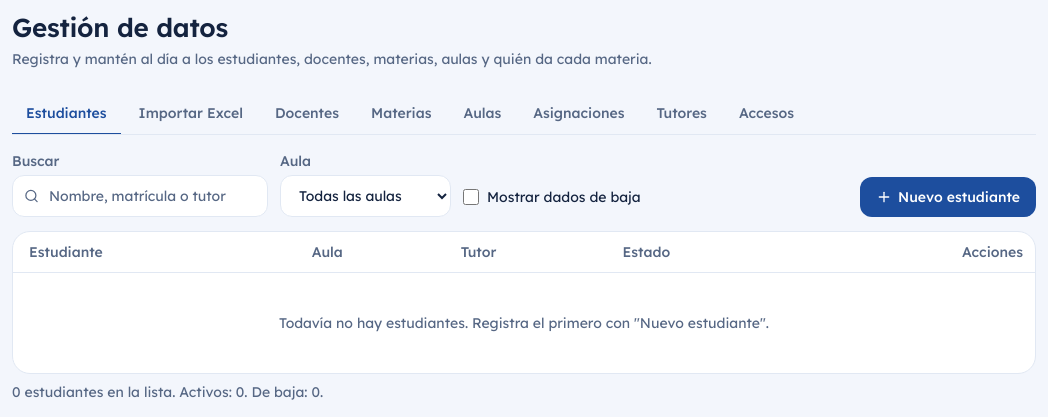
Test case: Aulas › muestra el año actual, la guía y los conteos
Step 1. Click the tab "Aulas" → (482, 114), box 450,92 -> 515,134
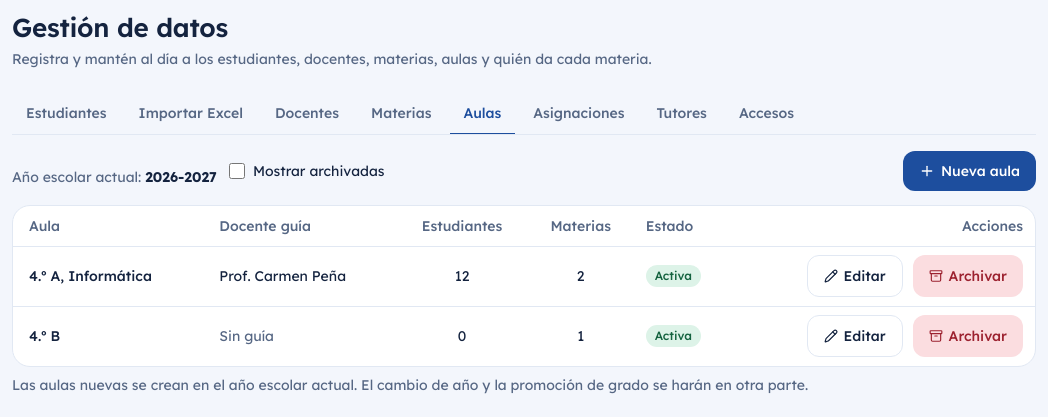
Result: the text "2026-2027" is shown at 145,168 -> 217,186
Result: the row that starts with "4.º A, Informática" shows "Prof. Carmen Peña" at 219,267 -> 346,285
Result: the row that starts with "4.º A, Informática" shows "12" at 455,267 -> 469,285
